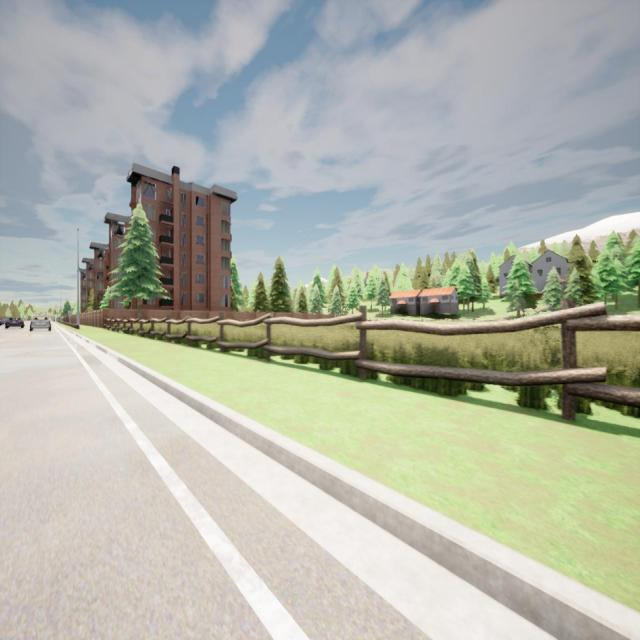Traffic_Signs: (68, 310, 72, 316)
Vehicle: (30, 315, 51, 332), (5, 316, 25, 328)
